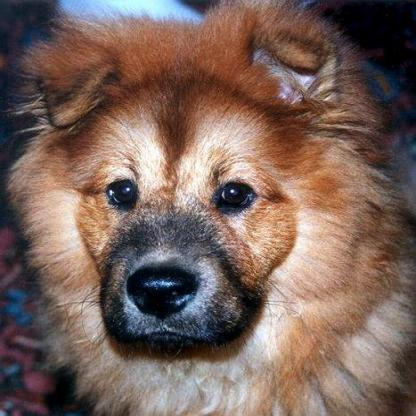chow: (5, 0, 414, 414)
